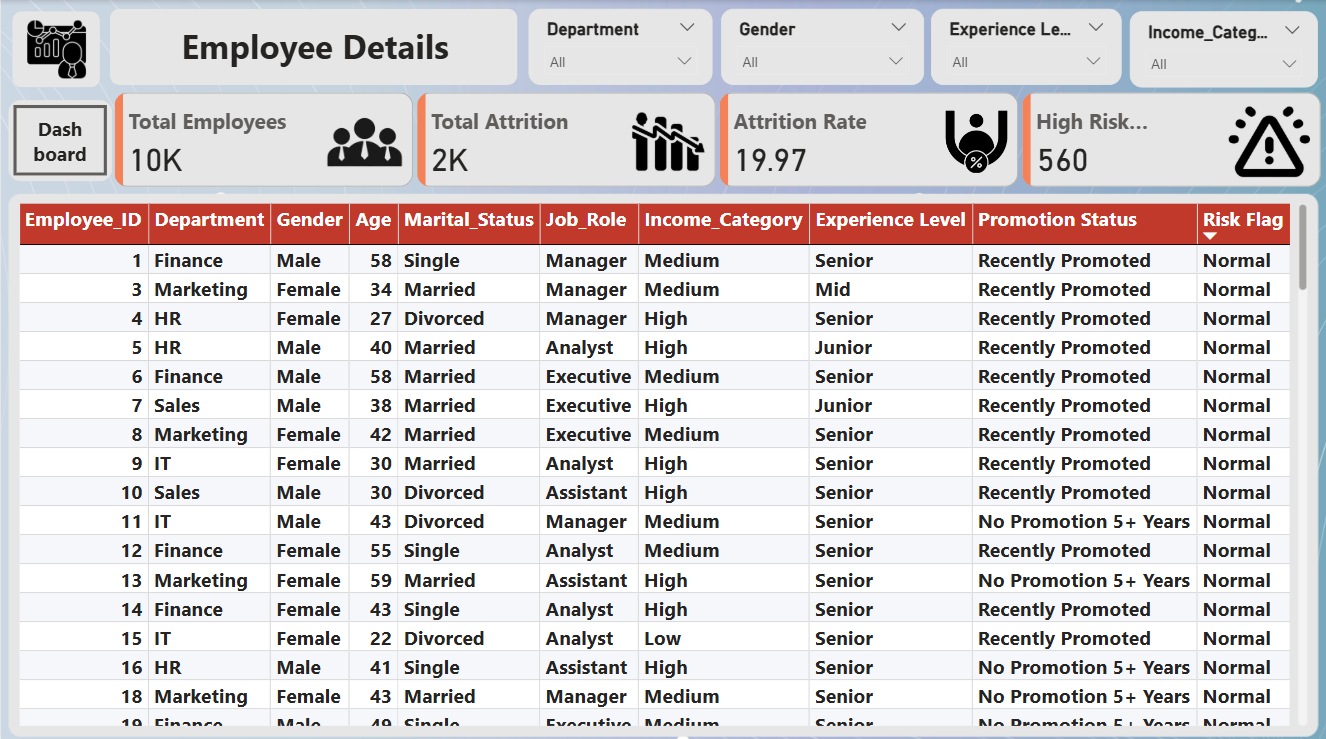

Layout of this report page (visuals, bound fields, positions):
{"tool":"powerbi","page":{"name":"Employee Details","canvas":[1280,720],"ordinal":1},"visuals":[{"type":"shape","box":[11,11,84.6,73.6],"z":0},{"type":"image","box":[20.8,13.5,66.2,68.7],"z":1000},{"type":"shape","box":[105.4,8.6,393.6,73.6],"z":2000},{"type":"textbox","box":[132.4,18.4,340.8,53.9],"z":4000},{"type":"slicer","title":"Experience vs Attrition","fields":{"Values":["Table1.Department"]},"box":[508.8,8.6,177.8,73.6],"z":5000},{"type":"slicer","title":"Experience vs Attrition","fields":{"Values":["Table1.Gender"]},"box":[695.2,8.6,196.2,73.6],"z":6000},{"type":"slicer","title":"Experience vs Attrition","fields":{"Values":["Table1.Experience_Level"]},"box":[897.5,8.6,183.9,73.6],"z":7000},{"type":"slicer","title":"Experience vs Attrition","fields":{"Values":["Table1.Income_Category"]},"box":[1090,11,181.5,73.6],"z":8000},{"type":"actionButton","box":[6.9,96.1,100.2,78.2],"z":9000},{"type":"textbox","box":[19.2,105.7,75.5,60.4],"z":10000},{"type":"tableEx","fields":{"Values":["Table1.Employee_ID","Table1.Department","Table1.Gender","Table1.Age","Table1.Marital_Status","Table1.Job_Role","Table1.Income_Category","Table1.Experience_Level","Table1.Promotion_Status","Table1.Risk_Flag"]},"box":[6.9,186.6,1263.8,524.2],"z":11000},{"type":"cardVisual","fields":{"Data":["Table1.Total Employees","Table1.Total Attrition","Table1.Attrition Rate","Table1.High Risk Employees"]},"box":[105.4,84.6,1174.6,101.8],"z":11001}]}

Visuals, with their boxes in screenshot pixels (x1, y1, x2, y2), scaled from the page's 1280x720 canvas onto the 1326x739 screenshot:
shape: <region>11, 11, 99, 87</region>
image: <region>22, 14, 90, 84</region>
shape: <region>109, 9, 517, 84</region>
textbox: <region>137, 19, 490, 74</region>
"Experience vs Attrition" slicer: <region>527, 9, 711, 84</region>
"Experience vs Attrition" slicer: <region>720, 9, 923, 84</region>
"Experience vs Attrition" slicer: <region>930, 9, 1120, 84</region>
"Experience vs Attrition" slicer: <region>1129, 11, 1317, 87</region>
actionButton: <region>7, 99, 111, 179</region>
textbox: <region>20, 108, 98, 170</region>
tableEx - Table1.Employee_ID x Table1.Department: <region>7, 192, 1316, 730</region>
cardVisual - Table1.Total Employees x Table1.Total Attrition: <region>109, 87, 1325, 191</region>
